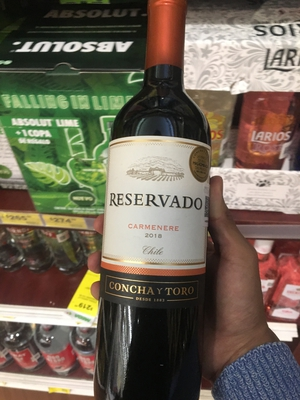reservado carmenere: (96, 10, 216, 399)
